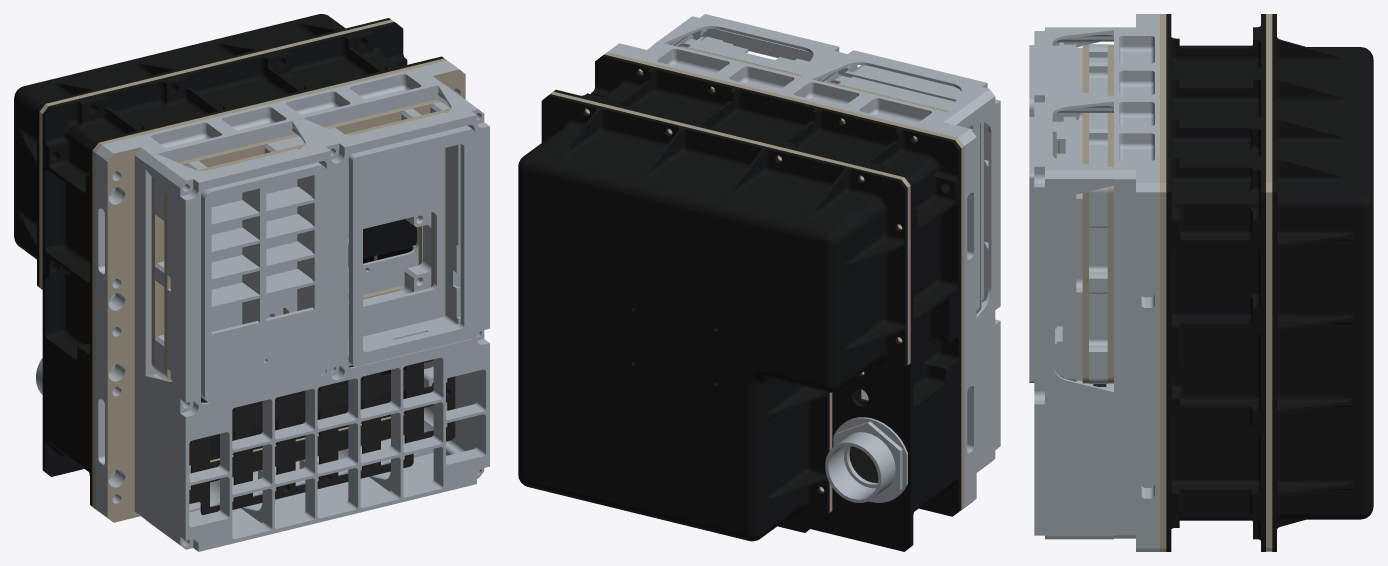
The model's file is DSKY_Assembled.gltf.
3 views of the same model, side by side, from view 1: azimuth 30°, elevation 25°; view 2: azimuth 150°, elevation 25°; view 3: azimuth 270°, elevation 25° (orthographic).
Visible parts, largest first — view 1: 2004739A-021 (Top Cover) (4.3" Mod), 2004705A (Intermediate Enclosure), 2004968E (Base Mountplate), 1006315G (Nextion Display Enclosure 4.3 in.), 2004699A-000 (Outer Annunciator Cover), cherrysupport-nopcb, 2004900A (Bottom Enclosure), Nextion 4.3 Faceplate MK.2, Led_splitter, 1006387D (Annunciator Enclosure), 1006387DCover (Annunciator Faceplate), 1006315A (Gasket Plate)_1 (+4 smaller); view 2: 2004900A (Bottom Enclosure), 2004705A (Intermediate Enclosure), 2004739A-021 (Top Cover) (4.3" Mod), 2004968E (Base Mountplate), Connector, DSKYIntermediateGasket, DSKYRearGasket, 2004699A-000 (Outer Annunciator Cover), 1006387D (Annunciator Enclosure), 1006315G (Nextion Display Enclosure 4.3 in.), Nextion 4.3 Faceplate MK.2; view 3: 2004900A (Bottom Enclosure), 2004705A (Intermediate Enclosure), 2004968E (Base Mountplate), 2004739A-021 (Top Cover) (4.3" Mod), 1006315G (Nextion Display Enclosure 4.3 in.), 2004919E (Intermediate Display Support), DSKYIntermediateGasket, DSKYRearGasket, 1006315A (Gasket Plate)_1, 1006315A (Gasket Plate)_2, Nextion 4.3 Faceplate MK.2, 2004699A-000 (Outer Annunciator Cover) (+1 smaller).
Part boxes in pixels (x1,y1,x2,y2): 2004739A-021 (Top Cover) (4.3" Mod): [145, 84, 489, 551]; 2004705A (Intermediate Enclosure): [42, 22, 443, 508]; 2004968E (Base Mountplate): [95, 60, 465, 522]; 1006315G (Nextion Display Enclosure 4.3 in.): [348, 112, 460, 350]; 2004699A-000 (Outer Annunciator Cover): [175, 162, 326, 402]; cherrysupport-nopcb: [189, 359, 455, 514]; 2004900A (Bottom Enclosure): [14, 14, 390, 367]; Nextion 4.3 Faceplate MK.2: [348, 125, 474, 366]; Led_splitter: [211, 186, 312, 324]; 1006387D (Annunciator Enclosure): [167, 149, 310, 381]; 1006387DCover (Annunciator Faceplate): [211, 174, 319, 361]; 1006315A (Gasket Plate)_1: [151, 100, 441, 369]; 2004900A (Bottom Enclosure): [518, 94, 907, 541]; 2004705A (Intermediate Enclosure): [553, 54, 961, 551]; 2004739A-021 (Top Cover) (4.3" Mod): [654, 14, 1000, 472]; 2004968E (Base Mountplate): [607, 42, 976, 509]; Connector: [825, 417, 907, 502]; DSKYIntermediateGasket: [604, 52, 964, 511]; DSKYRearGasket: [551, 91, 910, 512]; 2004699A-000 (Outer Annunciator Cover): [840, 65, 983, 310]; 1006387D (Annunciator Enclosure): [830, 75, 979, 312]; 1006315G (Nextion Display Enclosure 4.3 in.): [678, 36, 809, 74]; Nextion 4.3 Faceplate MK.2: [703, 29, 813, 61]; 2004900A (Bottom Enclosure): [1272, 14, 1373, 551]; 2004705A (Intermediate Enclosure): [1166, 14, 1265, 551]; 2004968E (Base Mountplate): [1114, 14, 1159, 551]; 2004739A-021 (Top Cover) (4.3" Mod): [1034, 27, 1113, 539]; 1006315G (Nextion Display Enclosure 4.3 in.): [1052, 116, 1082, 381]; 2004919E (Intermediate Display Support): [1089, 44, 1107, 383]; DSKYIntermediateGasket: [1160, 14, 1166, 551]; DSKYRearGasket: [1266, 14, 1272, 551]; 1006315A (Gasket Plate)_1: [1107, 44, 1113, 383]; 1006315A (Gasket Plate)_2: [1082, 44, 1088, 383]; Nextion 4.3 Faceplate MK.2: [1029, 117, 1034, 382]; 2004699A-000 (Outer Annunciator Cover): [1029, 42, 1063, 158].
Bounding box in the file's own units: 0.2065 × 0.2033 × 0.1716.
